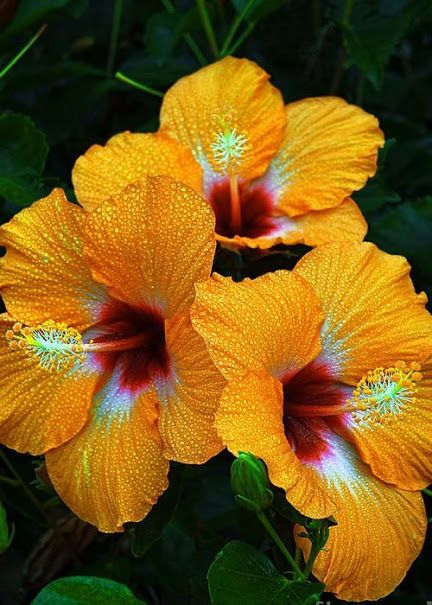Hibiscus: (1, 174, 228, 532), (207, 238, 429, 604), (63, 50, 408, 250)
